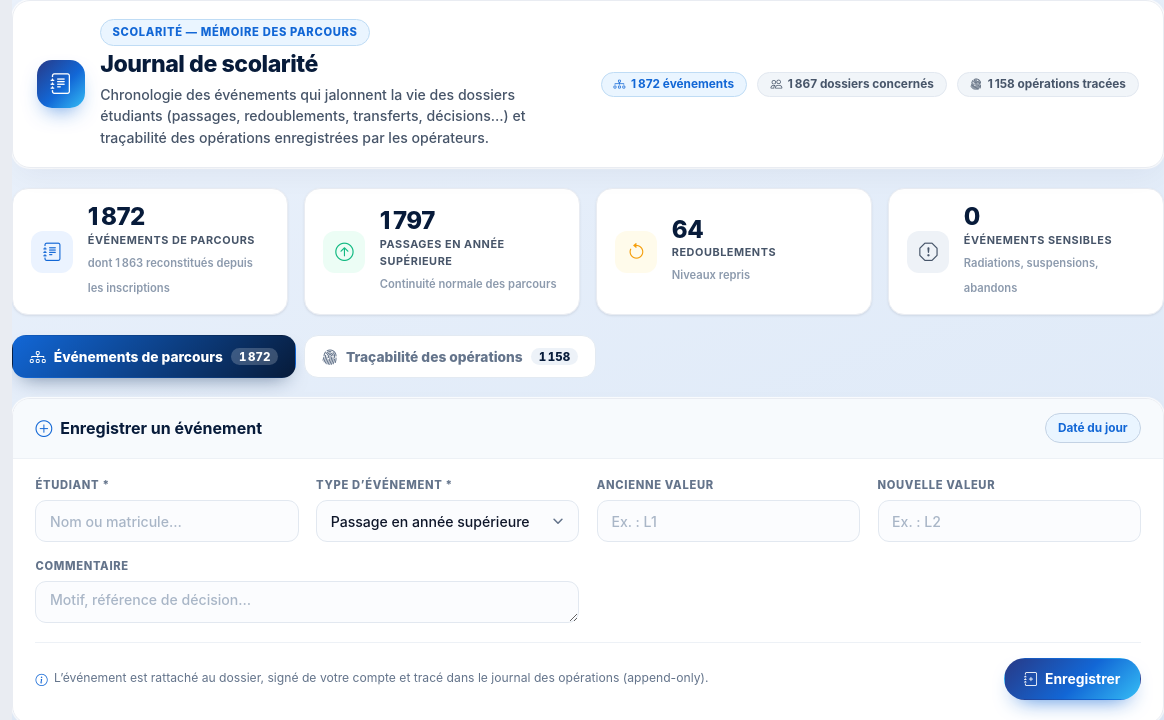
Test: Journal de scolarité — écran premium › bascule vers la traçabilité avec horodatage JJ/MM/AAAA heure réelle
Click the tab "Traçabilité des opérations 1 158".
click(450, 357)  # box [304,335,596,378]
(page scrolled)
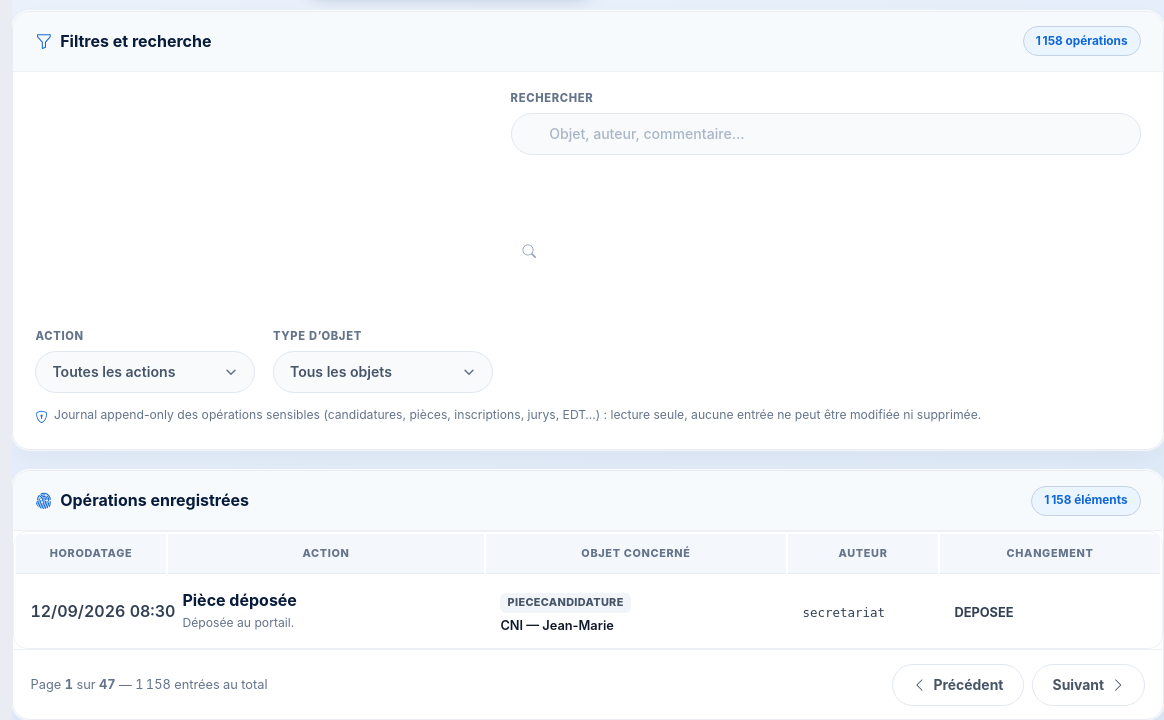
Result: the text "12/09/2026 08:30" is shown at [30,601,175,621]
Result: the text "Pièce déposée" is shown at [182,590,297,610]
Result: the text "CNI — Jean-Marie" is shown at [500,618,614,633]
